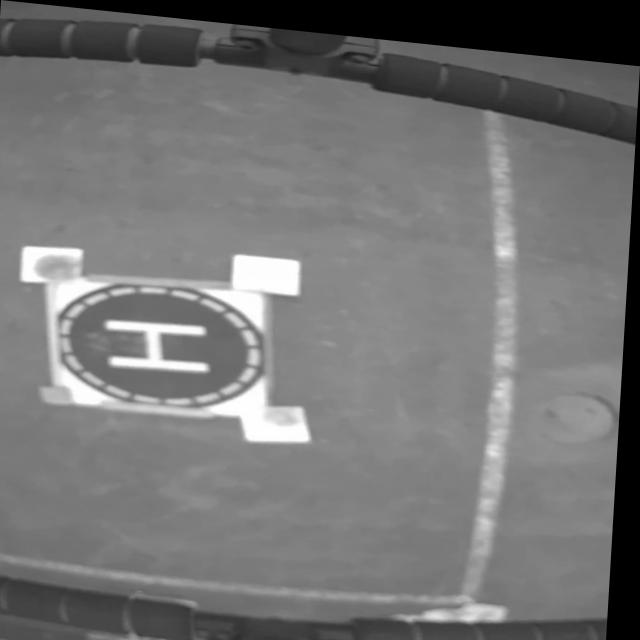Helipad: (105, 316, 213, 370)
